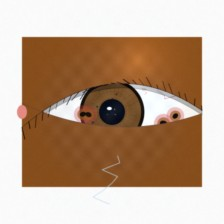foreign_body_visible: (67, 102, 98, 127)
